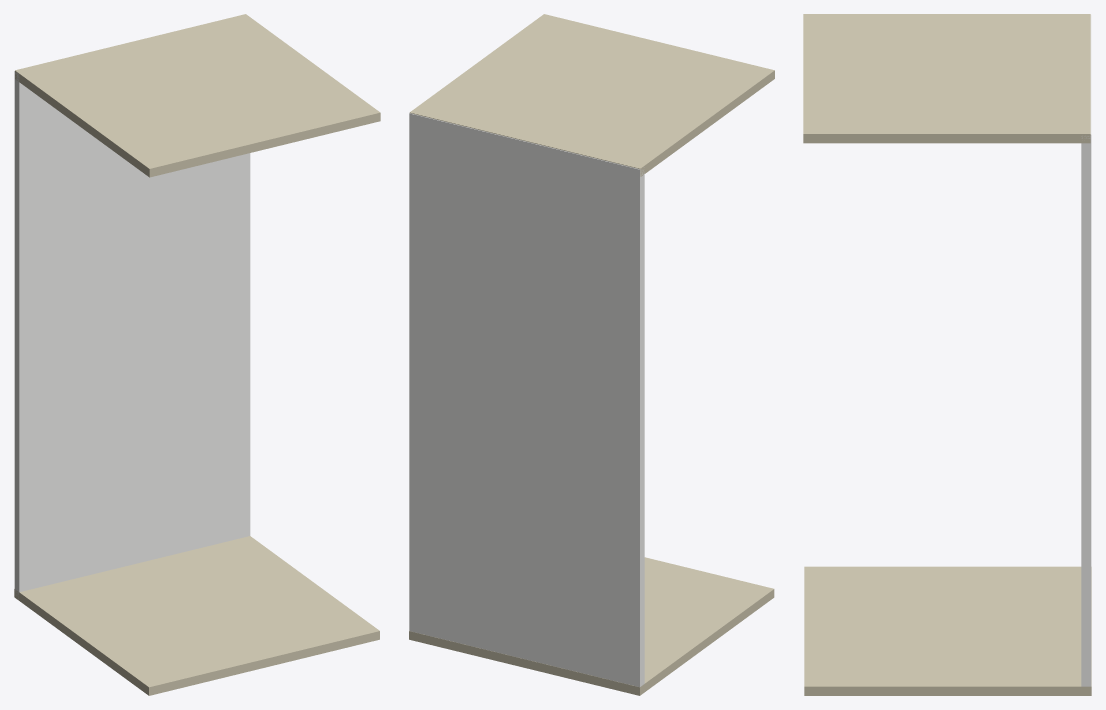
Rendered from Wall_1.fbx.
3 renders of one model, left to right at view 1: azimuth 30°, elevation 25°; view 2: azimuth 150°, elevation 25°; view 3: azimuth 270°, elevation 25°, orthographic. The views are drawn at different scales.
Parts seen in each view (by area): view 1: Wall_1_pCube1; view 2: Wall_1_pCube1; view 3: Wall_1_pCube1.
Part boxes in pixels (left/top/right/bottom): Wall_1_pCube1: left=14, top=14, right=380, bottom=695; Wall_1_pCube1: left=409, top=14, right=774, bottom=695; Wall_1_pCube1: left=803, top=14, right=1091, bottom=695.
Size of the model in its own units: 8.1 by 17.67 by 8.21.
